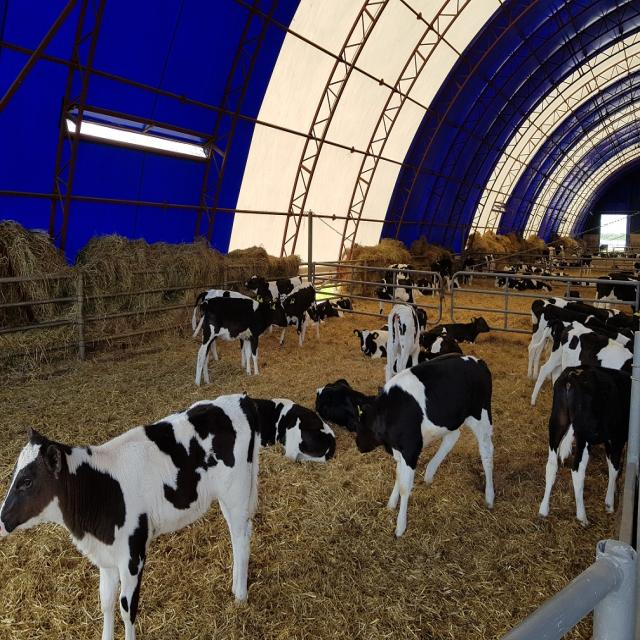cow: (0, 391, 260, 639), (353, 352, 495, 538), (538, 363, 632, 527), (530, 316, 634, 406), (191, 291, 288, 386), (247, 395, 336, 464), (384, 301, 426, 383), (424, 315, 490, 344)
